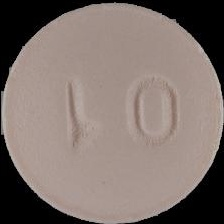0615-7705: (0, 0, 224, 224)
